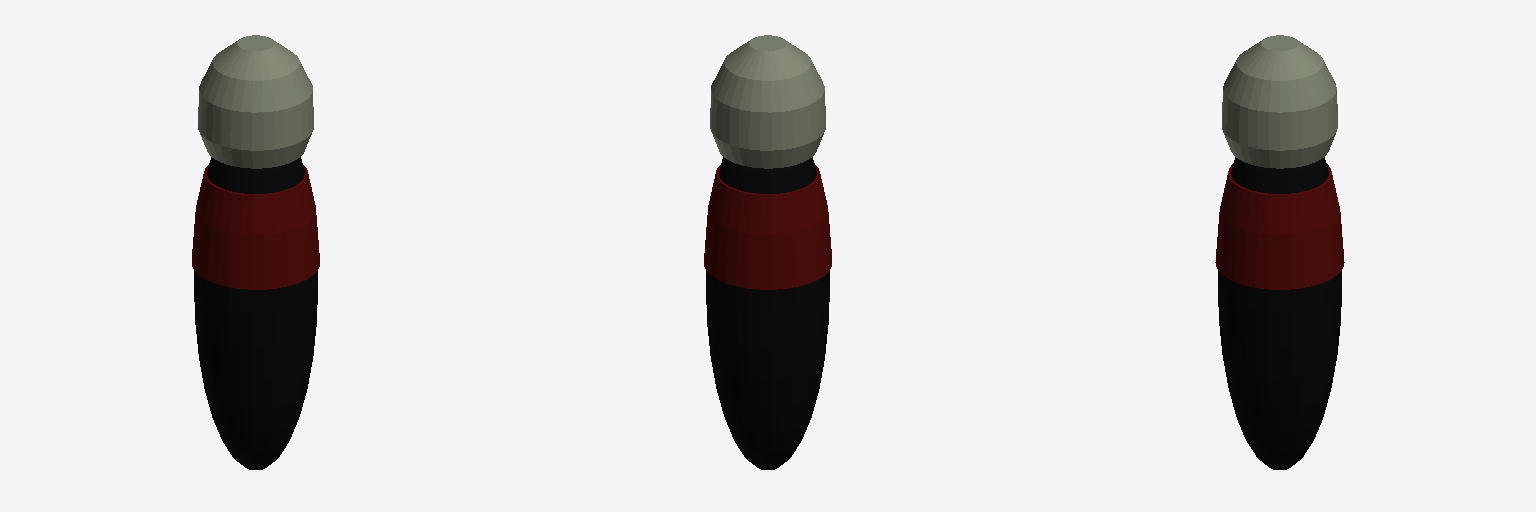
File: Settler.obj
3 views of the same model, side by side, from view 1: azimuth 30°, elevation 25°; view 2: azimuth 150°, elevation 25°; view 3: azimuth 270°, elevation 25° (orthographic).
Parts seen in each view (by area): view 1: Settler, SettlerShirt_Settler.001; view 2: Settler, SettlerShirt_Settler.001; view 3: Settler, SettlerShirt_Settler.001.
Part boxes in pixels (x1,y1,x2,y2): Settler: (194,35,317,469); SettlerShirt_Settler.001: (192,165,319,289); Settler: (706,35,829,469); SettlerShirt_Settler.001: (704,165,831,289); Settler: (1218,35,1341,469); SettlerShirt_Settler.001: (1215,164,1344,289).
Size of the model in its own units: 0.1628 by 0.5919 by 0.1627.